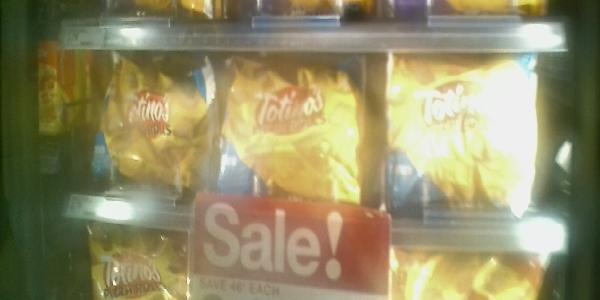icecream: (379, 52, 537, 223), (214, 48, 372, 212), (84, 49, 210, 200)
